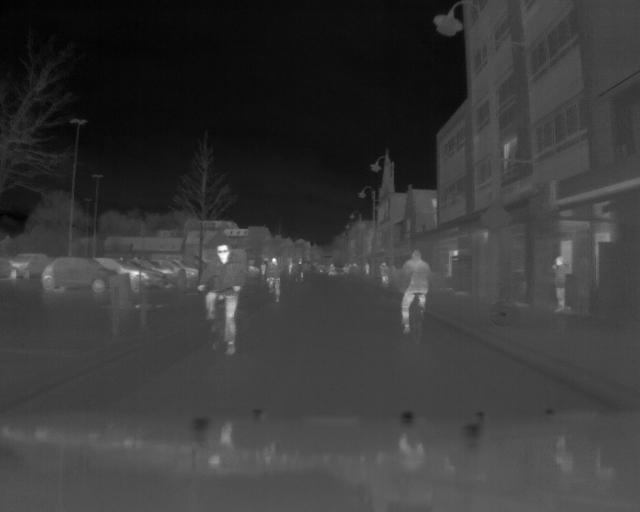car: (41, 257, 120, 293)
person: (198, 242, 243, 360), (397, 247, 430, 340), (548, 254, 572, 319), (265, 257, 281, 305), (379, 257, 390, 292)
